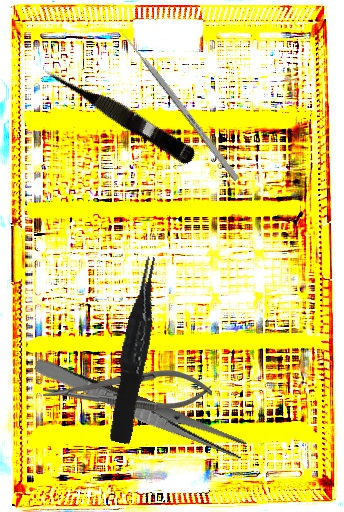Dressing Forceps: (30, 355, 249, 462)
Micro Scissor: (40, 59, 200, 167)
Needle Holder: (42, 368, 213, 413)
Pusher: (117, 27, 241, 182)
Tissue Forceps: (101, 255, 172, 445)
